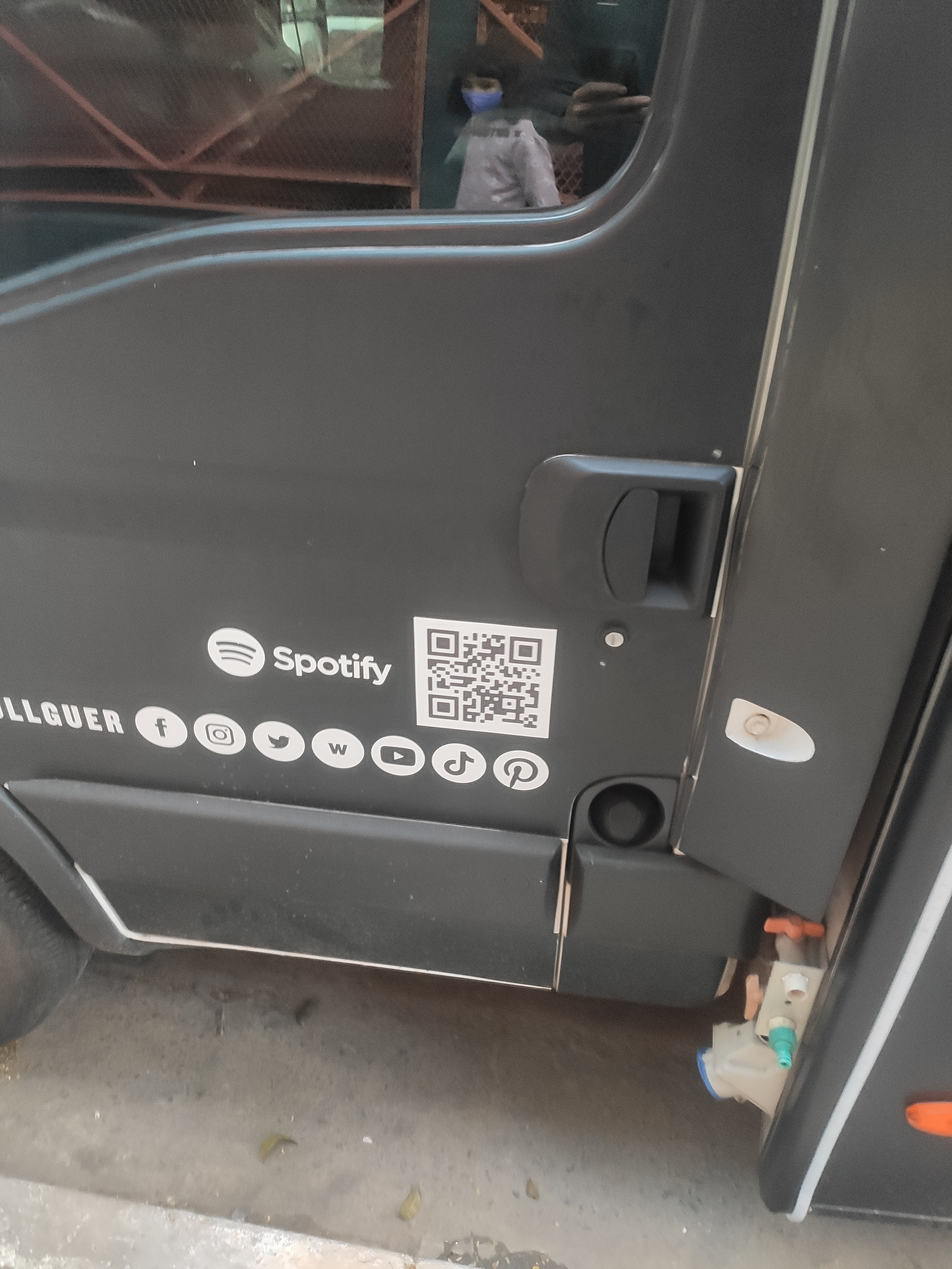QR-CODE: (427, 628, 542, 729)
